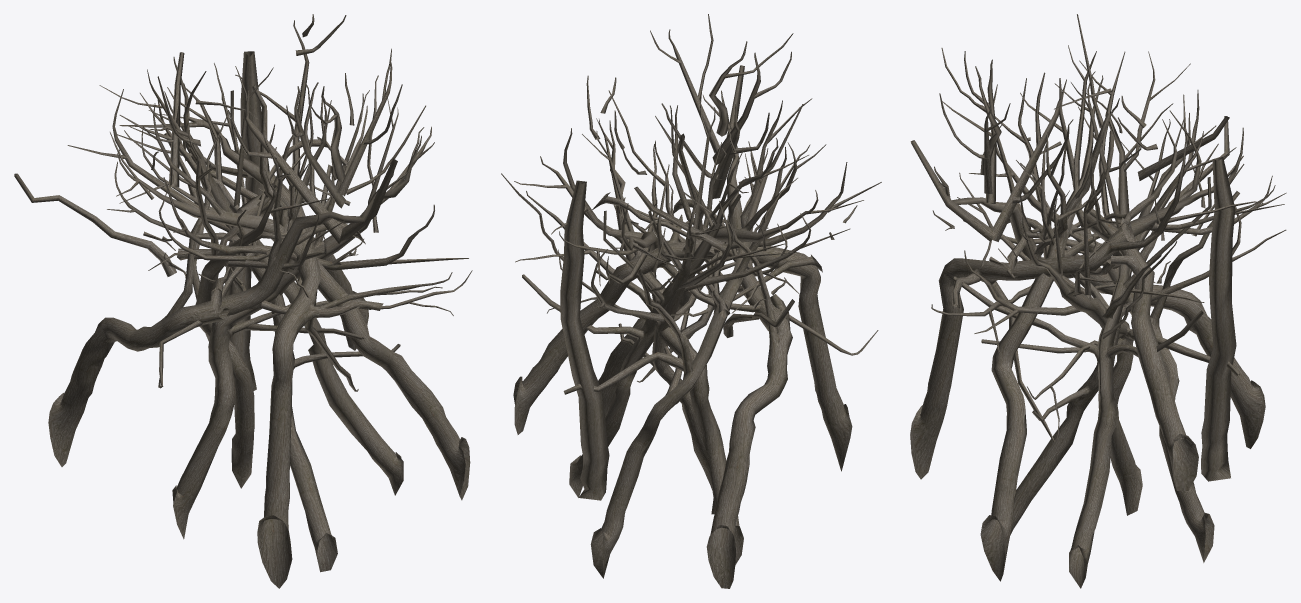
The model's file is oak-detached-limbs.gltf.
The picture shows the model from 3 angles, left to right: view 1: azimuth 30°, elevation 25°; view 2: azimuth 150°, elevation 25°; view 3: azimuth 270°, elevation 25°; orthographic projection. The views are drawn at different scales.
Visible parts, largest first — view 1: Oak_detached_limb_2, Oak_detached_limb_5, Oak_detached_limb_1, Oak_detached_limb_7, Oak_detached_limb_3, Oak_detached_limb_6, Oak_detached_limb_8, Oak_detached_limb_4; view 2: Oak_detached_limb_6, Oak_detached_limb_1, Oak_detached_limb_5, Oak_detached_limb_7, Oak_detached_limb_2, Oak_detached_limb_8, Oak_detached_limb_4, Oak_detached_limb_3; view 3: Oak_detached_limb_6, Oak_detached_limb_7, Oak_detached_limb_2, Oak_detached_limb_8, Oak_detached_limb_3, Oak_detached_limb_5, Oak_detached_limb_1, Oak_detached_limb_4.
Part boxes in pixels (x1,y1,x2,y2): Oak_detached_limb_2: [117, 20, 383, 588]; Oak_detached_limb_5: [14, 52, 472, 539]; Oak_detached_limb_1: [48, 100, 452, 466]; Oak_detached_limb_7: [110, 48, 425, 572]; Oak_detached_limb_3: [116, 84, 470, 500]; Oak_detached_limb_6: [163, 14, 364, 488]; Oak_detached_limb_8: [67, 66, 403, 495]; Oak_detached_limb_4: [158, 136, 368, 388]; Oak_detached_limb_6: [560, 75, 810, 578]; Oak_detached_limb_1: [610, 90, 857, 588]; Oak_detached_limb_5: [514, 104, 803, 564]; Oak_detached_limb_7: [591, 14, 798, 514]; Oak_detached_limb_2: [551, 128, 852, 471]; Oak_detached_limb_8: [501, 91, 850, 497]; Oak_detached_limb_4: [513, 192, 878, 434]; Oak_detached_limb_3: [598, 133, 881, 417]; Oak_detached_limb_6: [957, 79, 1239, 562]; Oak_detached_limb_7: [910, 48, 1286, 534]; Oak_detached_limb_2: [910, 110, 1286, 479]; Oak_detached_limb_8: [952, 51, 1244, 588]; Oak_detached_limb_3: [980, 45, 1216, 581]; Oak_detached_limb_5: [962, 14, 1239, 515]; Oak_detached_limb_1: [931, 84, 1265, 448]; Oak_detached_limb_4: [998, 208, 1198, 490].
Size of the model in its own units: 433 by 586 by 411.
1 material, 1 textured.
